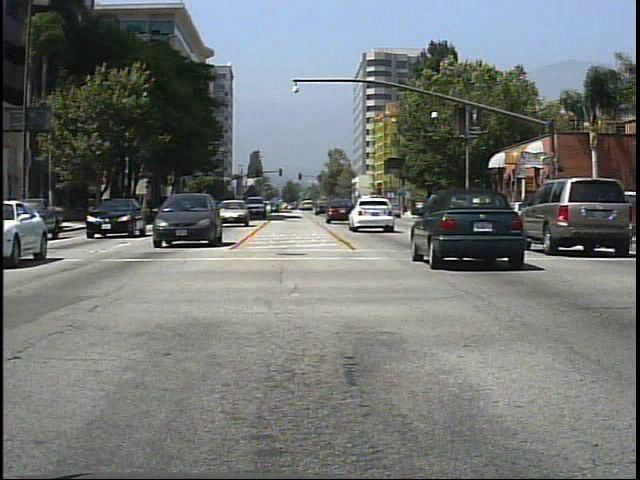person: (486, 189, 504, 225), (518, 195, 536, 230)
